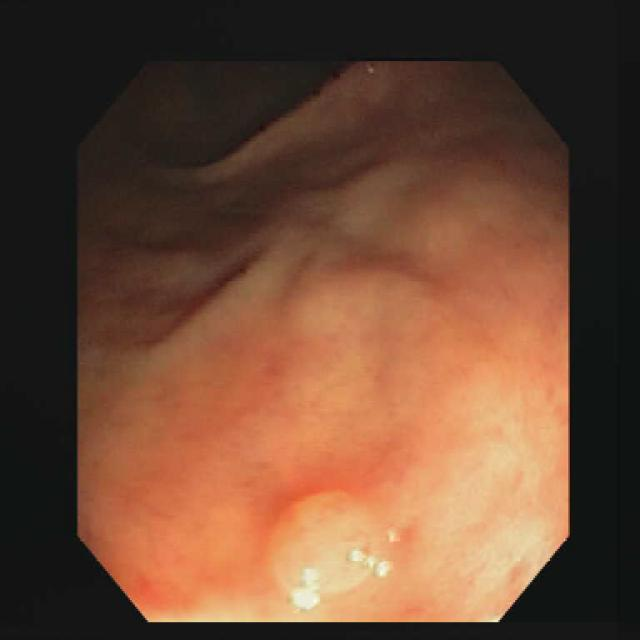tumor: (268, 491, 397, 611)
